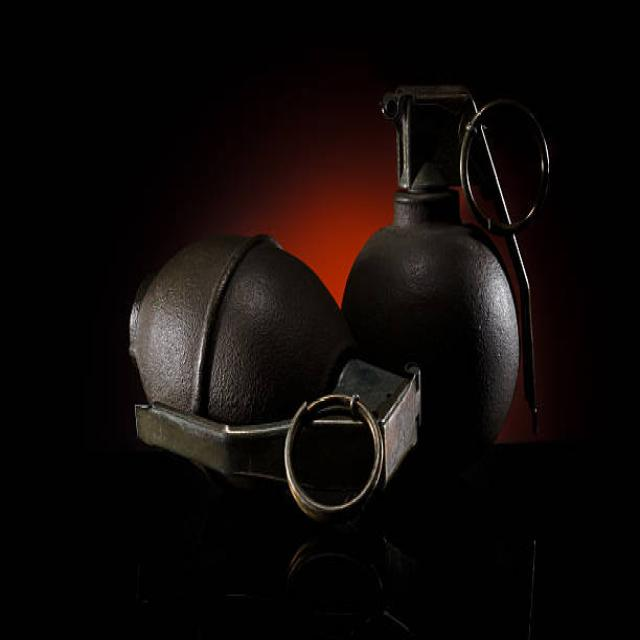grenade: (125, 229, 432, 534), (340, 71, 557, 494)
